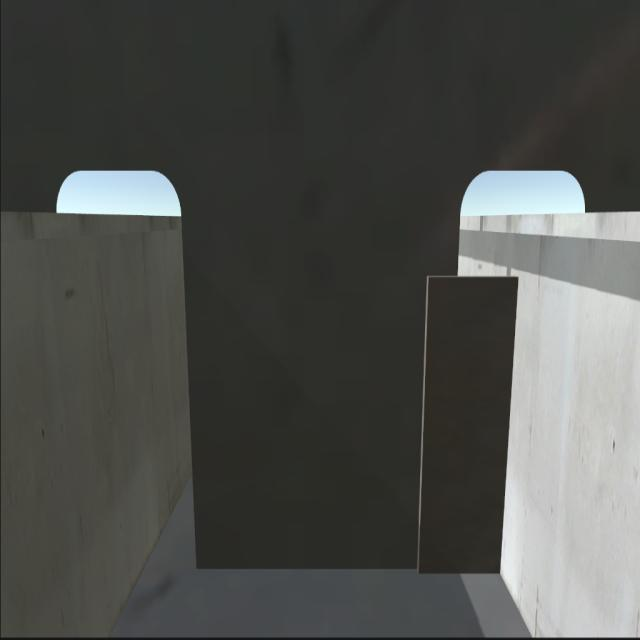fillet_yong_jeop_jang: (193, 551, 511, 587)
longi_yong_jeop_jang: (500, 271, 525, 570)
plate_CP01: (423, 279, 504, 575)
